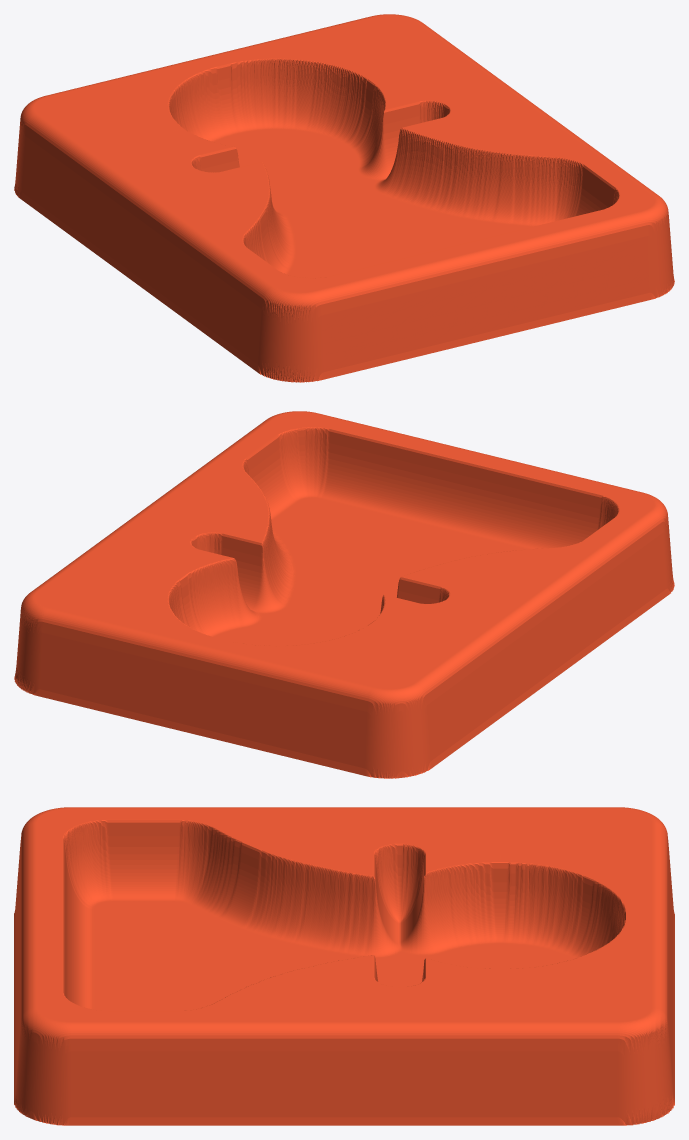
Rendered from mold.glb.
3 renders of one model, top to bottom at view 1: azimuth 30°, elevation 25°; view 2: azimuth 150°, elevation 25°; view 3: azimuth 270°, elevation 25°, orthographic. The views are drawn at different scales.
Parts seen in each view (by area): view 1: geometry_0; view 2: geometry_0; view 3: geometry_0.
Part boxes in pixels (x1=…): geometry_0: x1=14, y1=14, x2=674, y2=382; geometry_0: x1=14, y1=411, x2=674, y2=778; geometry_0: x1=14, y1=807, x2=674, y2=1125.
Bounding box in the file's own units: 0.0874 × 0.0165 × 0.105.
